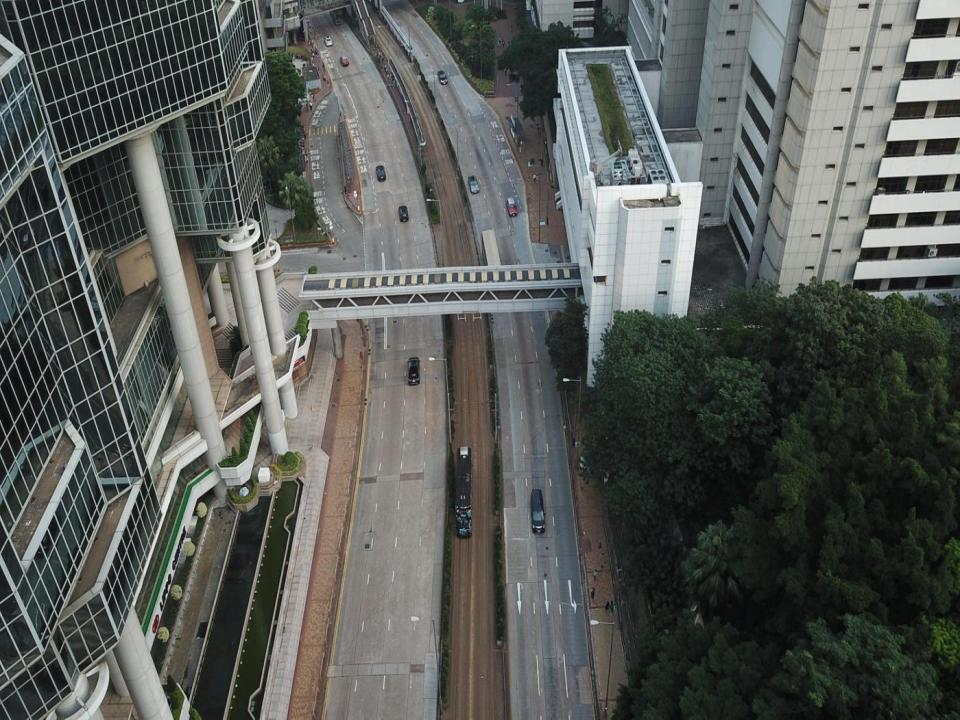bus: (456, 444, 470, 539)
car: (530, 487, 546, 534), (406, 357, 420, 386), (506, 194, 518, 218), (467, 173, 480, 194), (437, 68, 449, 86), (375, 164, 386, 183), (397, 205, 409, 222), (322, 34, 333, 46), (339, 54, 349, 66)
